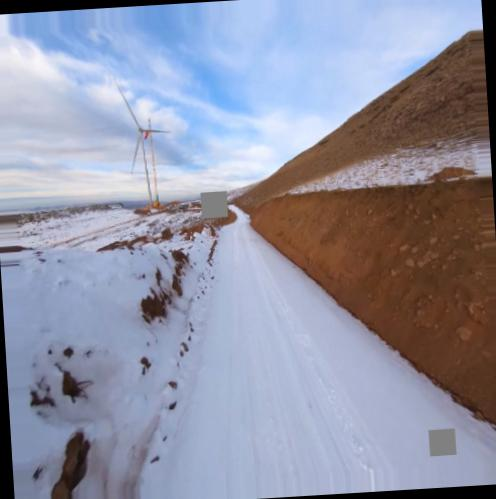wind turbine: (116, 85, 176, 211)
